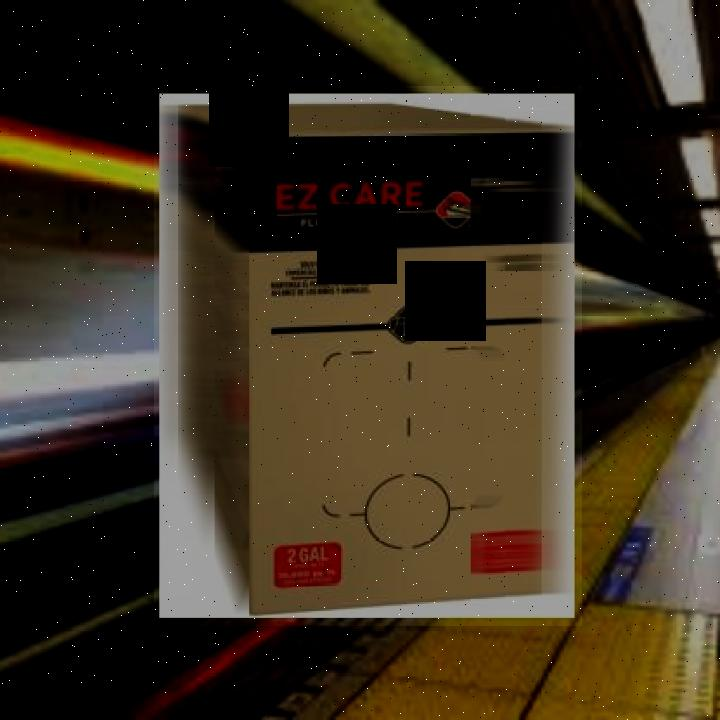box: (154, 87, 582, 626)
